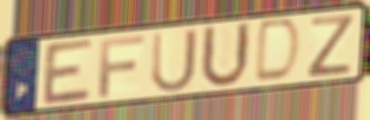D: (252, 16, 304, 85)
E: (40, 36, 95, 108)
F: (96, 33, 147, 100)
U: (197, 20, 253, 91), (149, 26, 199, 96)
Z: (304, 12, 357, 80)
